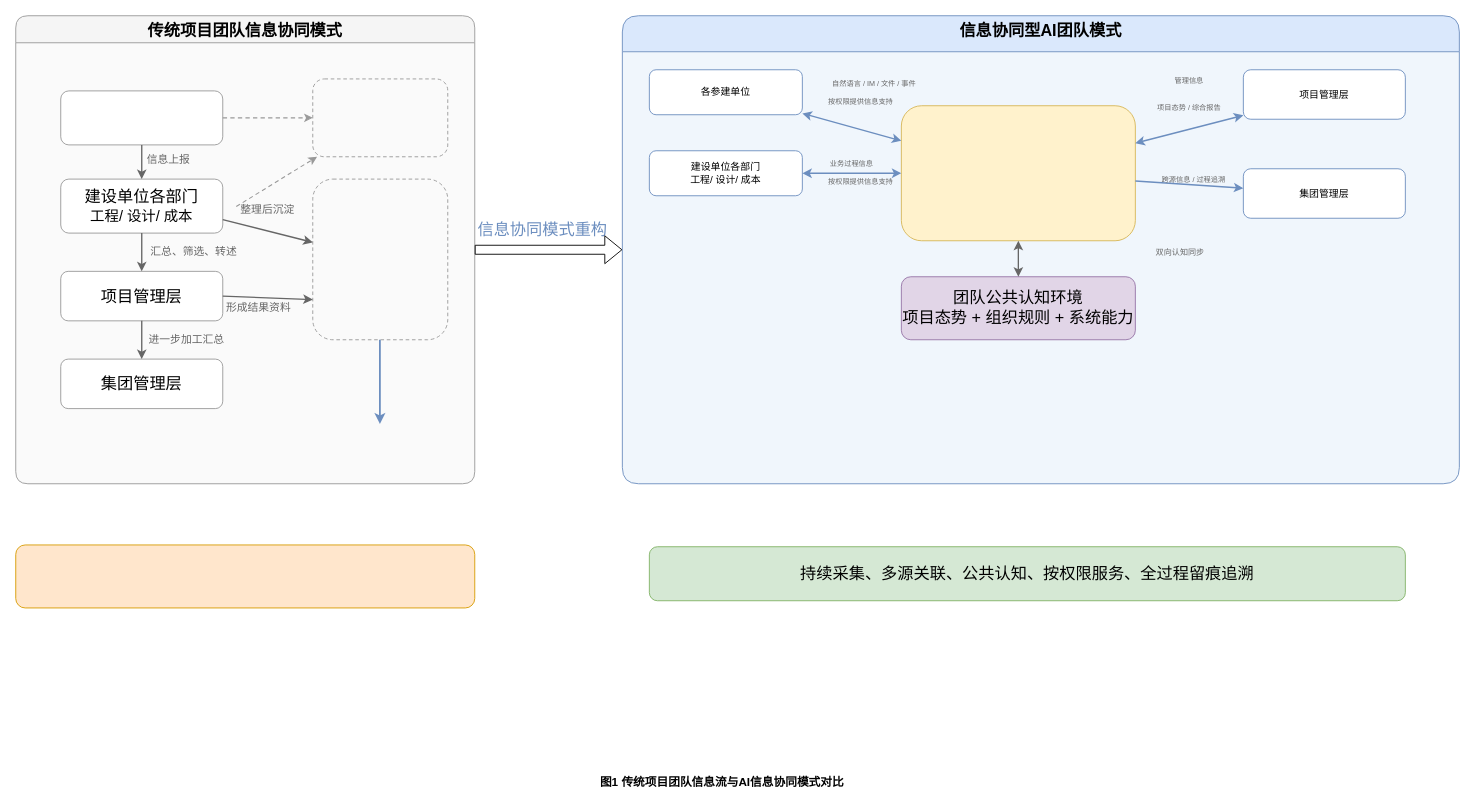
Some shapes in this 1475 by 808 pixel diagram are drawn without their labels. Here are the shapes that lost their labels. From the top down, the centre of each, then its label:
At point (141, 117): "参建单位现场人员 一线观察 / 问题 / 经验".
At point (380, 117): "个人经验 即时通讯记录 零散文件".
At point (1017, 173): "团队公共AI信息协同中枢 Emily".
At point (380, 259): "正式成果资料 汇报文件 管理系统".
At point (245, 576): "信息逐级过滤、过程信息流失、跨部门壁垒、知识随人员流动".
